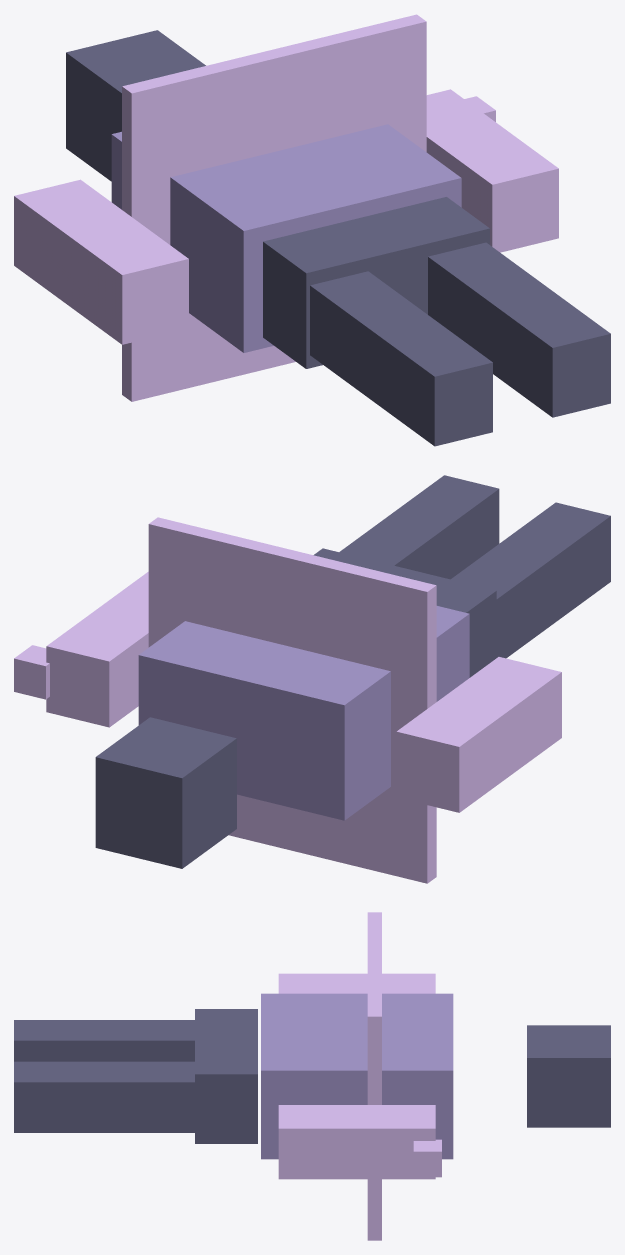
File: orion-vell_female_battle.glb
3 renders of one model, top to bottom at view 1: azimuth 30°, elevation 25°; view 2: azimuth 150°, elevation 25°; view 3: azimuth 270°, elevation 25°, orthographic. The views are drawn at different scales.
Visible parts, largest first — view 1: orion-vell_female_body; view 2: orion-vell_female_body; view 3: orion-vell_female_body.
Part boxes in pixels (box(x1,y1,x2,y2)): orion-vell_female_body: box(14, 14, 610, 446); orion-vell_female_body: box(14, 475, 610, 883); orion-vell_female_body: box(14, 912, 610, 1240).
Bounding box in the file's own units: 1.11 × 0.7 × 1.69.
